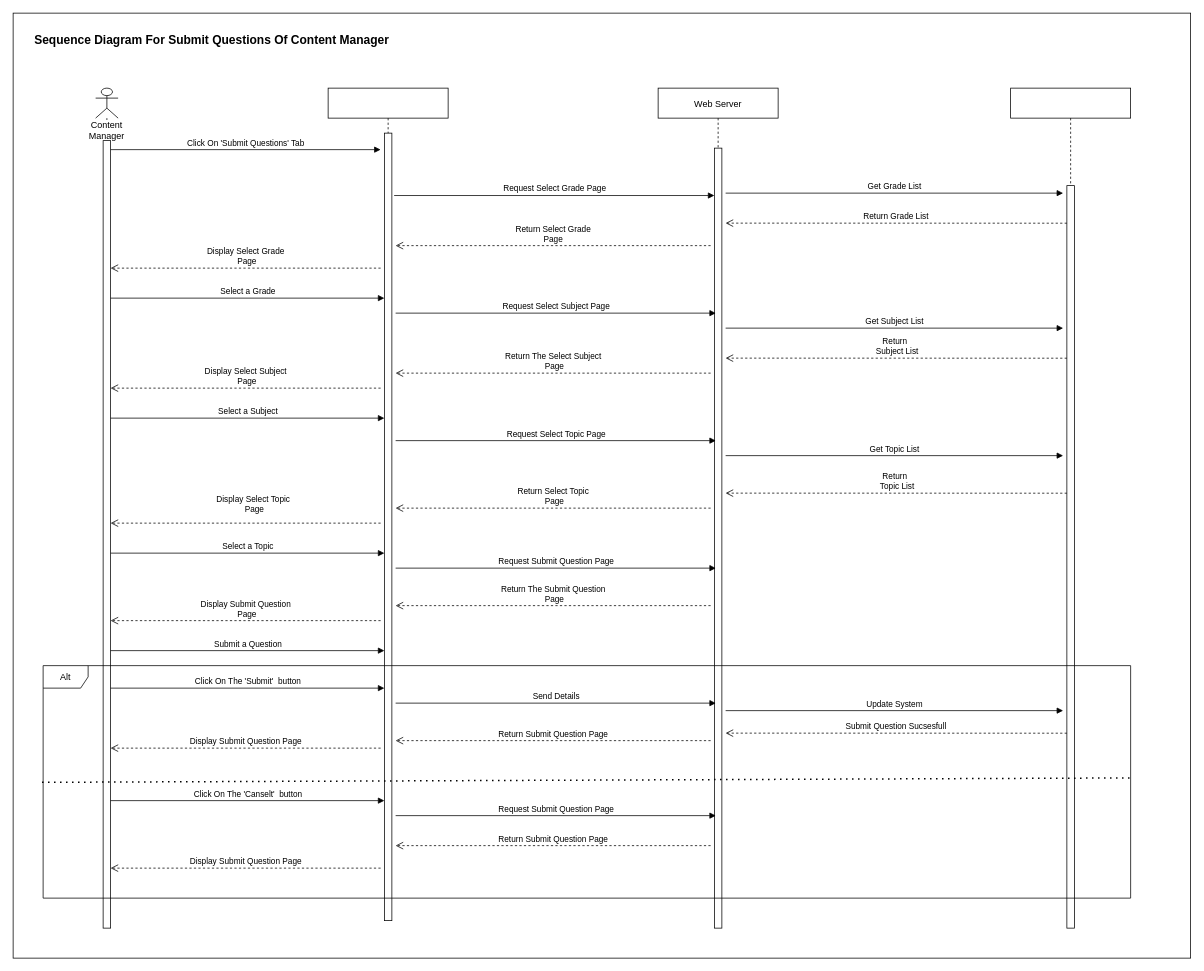
Image size: 1204x971. Some labels were removed from this diagram. The shapes that lost their labels are listed below. From the top down, each one's box as (x1, y1, x2, y2) in pixels, then its label:
(327, 87, 448, 921): Main Interface
(1010, 87, 1131, 928): Database
